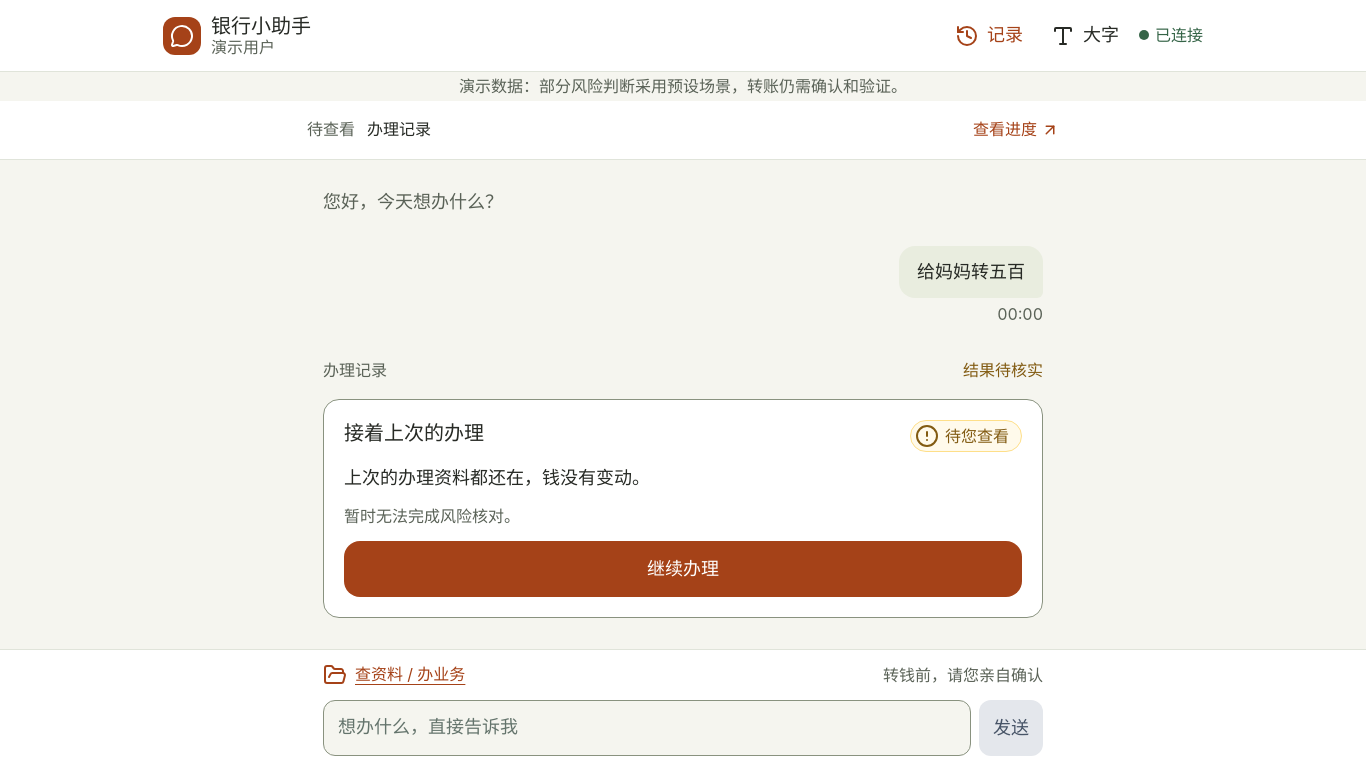
Scenario: shell recovery from server records › keeps a safety-paused task paused after viewing restored records
Click the button "继续办理". click: click(683, 569)
box: [344, 541, 1022, 597]
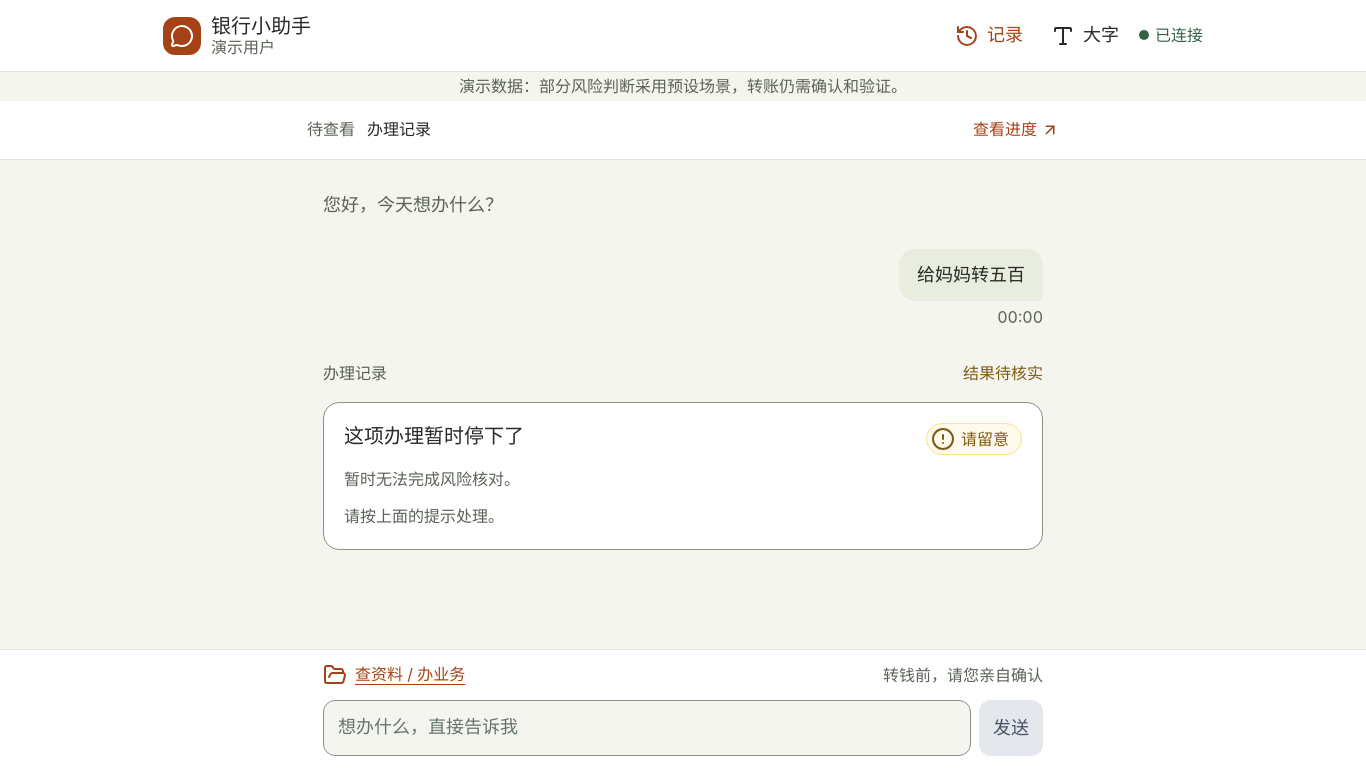
expect the heading "这项办理暂时停下了" is shown: met, box [344, 423, 524, 450]
